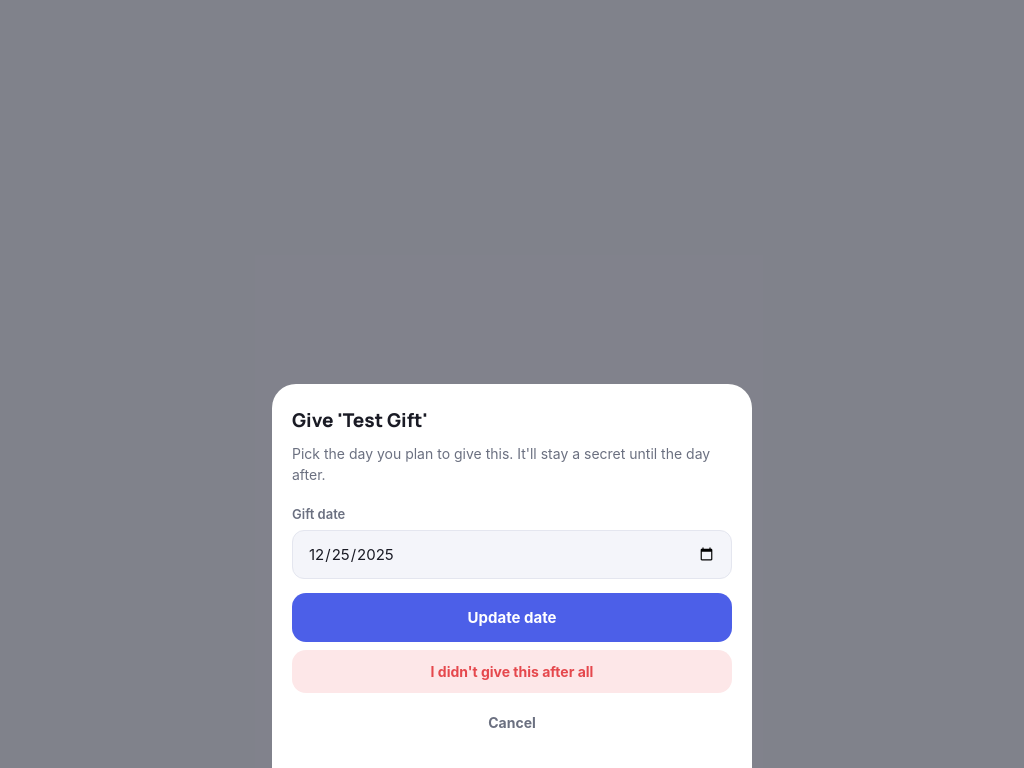
Test: ClaimModal › edit claim mode (isEdit=true) › should show inline error when updating without a date
Clear the date field showing "2025-12-25" at point(512, 554), box [292,530,732,579]
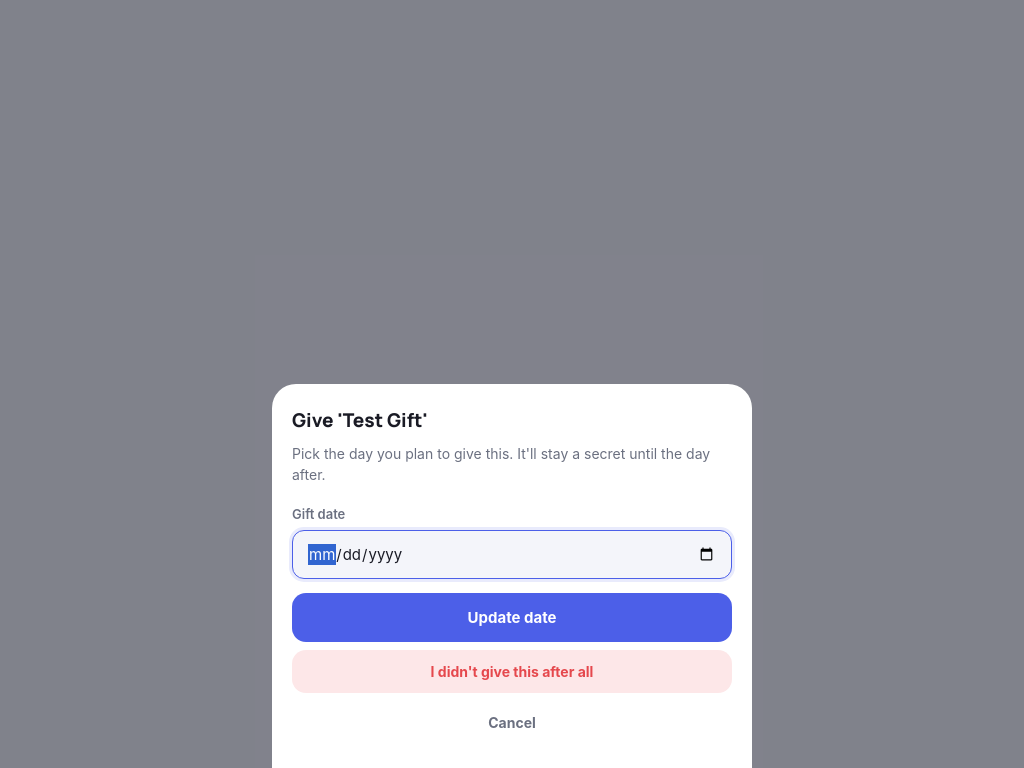
Click the button "Update date" at point(512, 618), box [292,593,732,642]
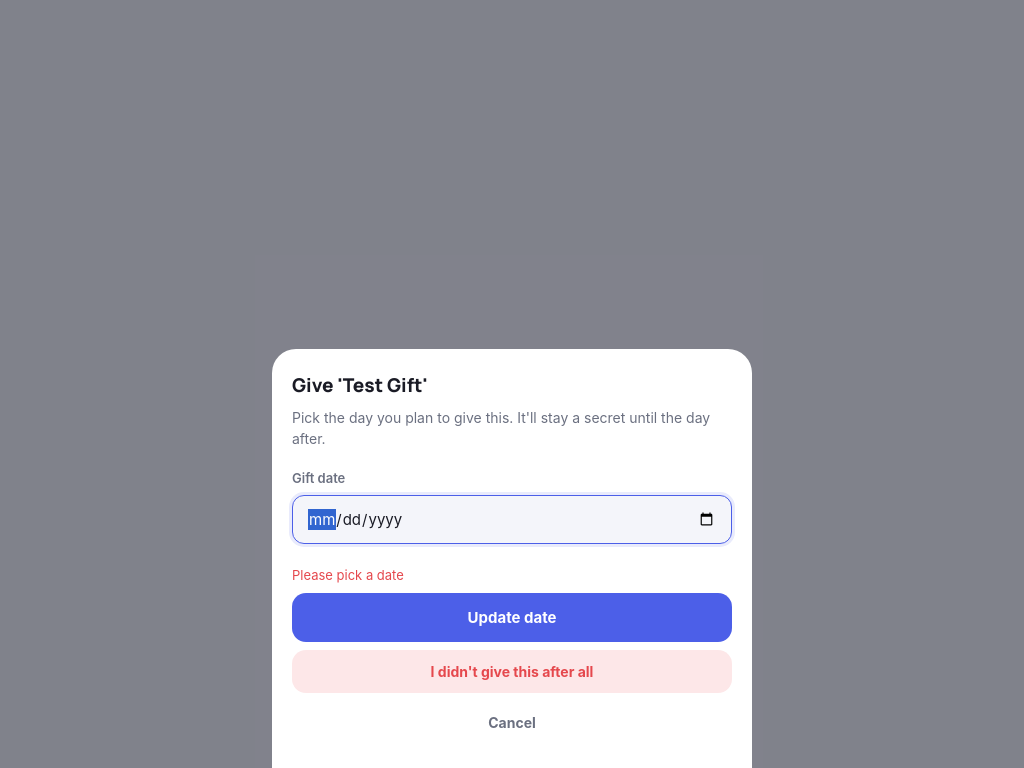
Result: the text "Please pick a date" is shown at [292,566,404,582]
